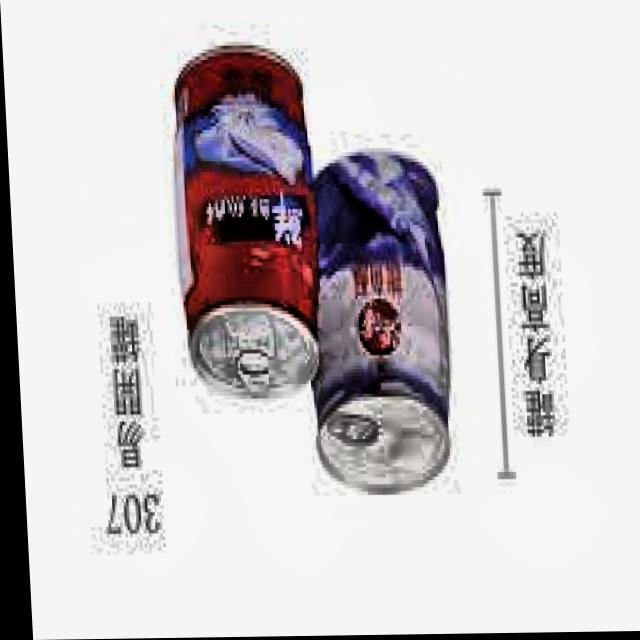can: (161, 23, 332, 412), (285, 129, 459, 505)
